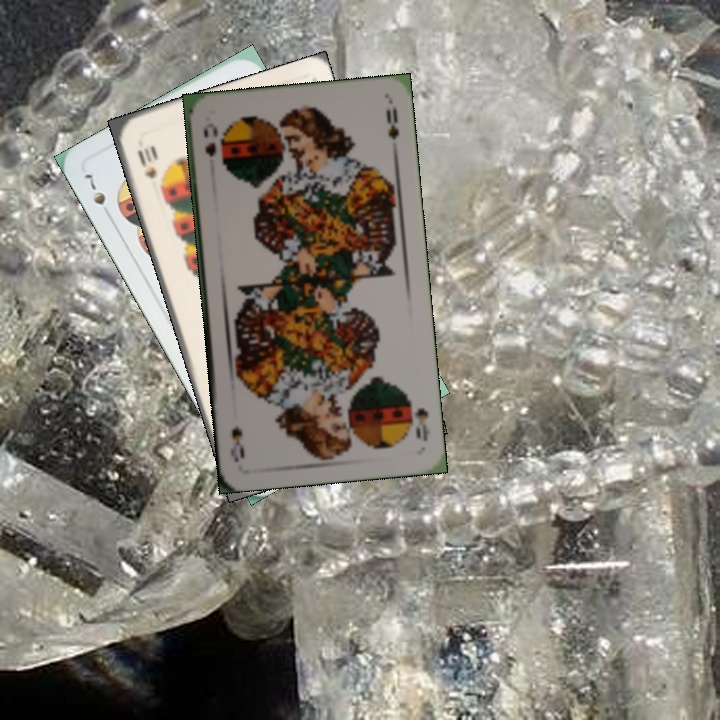S10: (133, 143, 159, 181)
S7: (80, 169, 108, 208)
SO: (405, 395, 433, 444), (199, 118, 220, 160)
